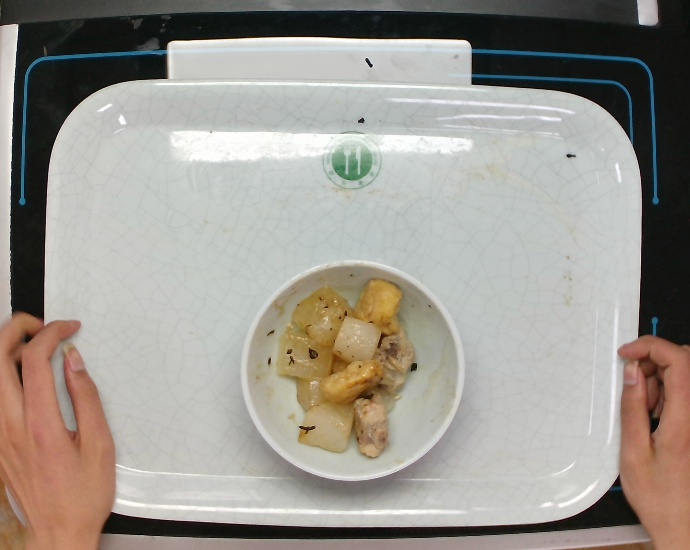JYsf-Fan_Wan: (237, 256, 469, 485)
